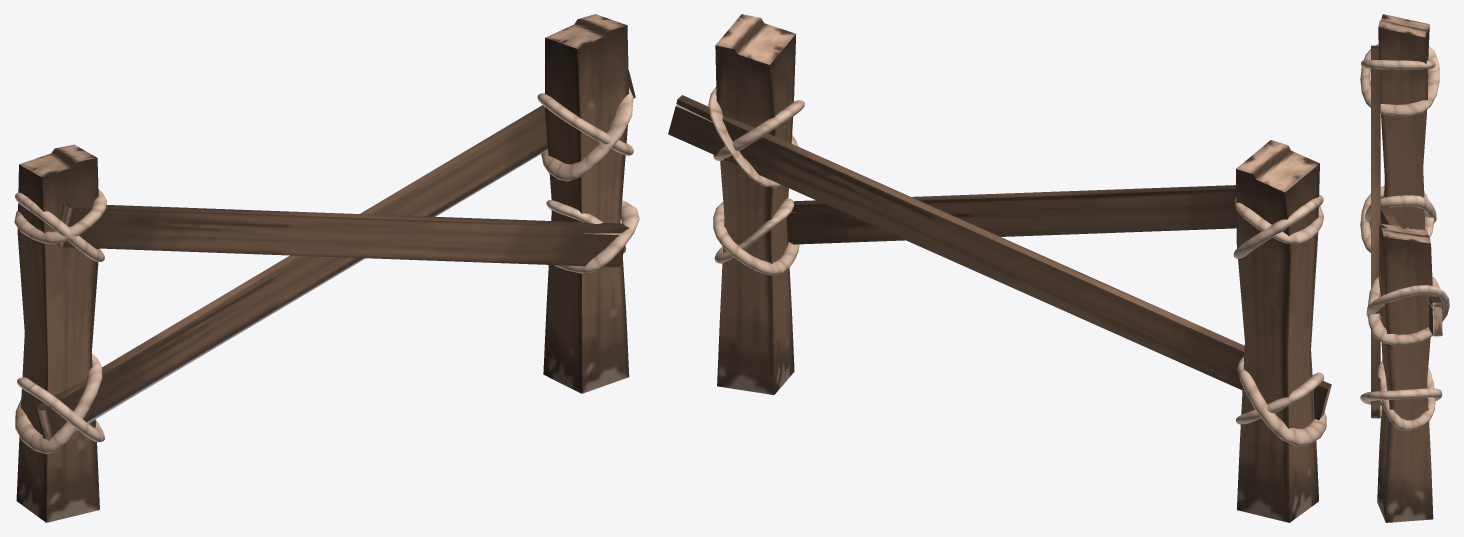
File: Barrière.FBX
3 views of the same model, side by side, from view 1: azimuth 30°, elevation 25°; view 2: azimuth 150°, elevation 25°; view 3: azimuth 270°, elevation 25° (orthographic). The views are drawn at different scales.
Parts seen in each view (by area): view 1: Z3_Fence; view 2: Z3_Fence; view 3: Z3_Fence.
Boxes of the visible parts, left/top/right/bottom form: Z3_Fence: left=14, top=14, right=639, bottom=522; Z3_Fence: left=668, top=14, right=1331, bottom=522; Z3_Fence: left=1360, top=14, right=1449, bottom=522.
Bounding box in the file's own units: 814 × 435 × 124.
